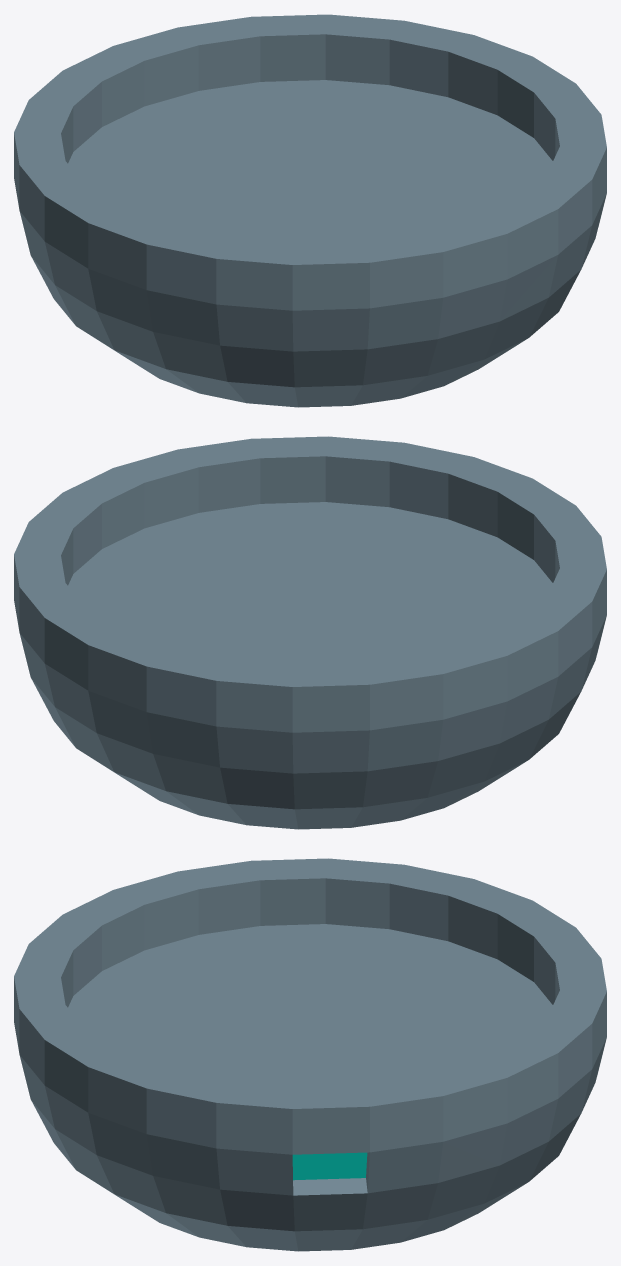
The model's file is vase-05.fbx.
The picture shows the model from 3 angles, top to bottom: view 1: azimuth 30°, elevation 25°; view 2: azimuth 150°, elevation 25°; view 3: azimuth 270°, elevation 25°; orthographic projection.
Visible parts, largest first — view 1: vase-05; view 2: vase-05; view 3: vase-05.
Part boxes in pixels (x1,y1,x2,y2): vase-05: [14, 14, 606, 407]; vase-05: [14, 436, 606, 829]; vase-05: [14, 858, 606, 1251].
Size of the model in its own units: 11.77 by 4 by 11.77.
